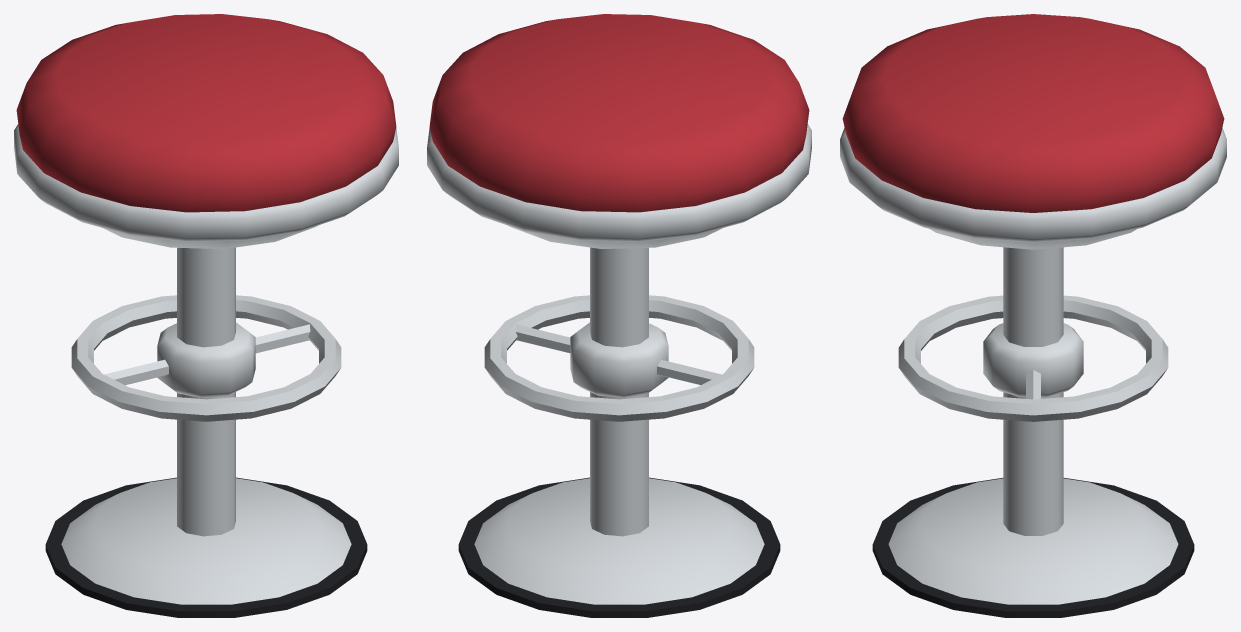
File: Shop_Stool.fbx
3 renders of one model, left to right at view 1: azimuth 30°, elevation 25°; view 2: azimuth 150°, elevation 25°; view 3: azimuth 270°, elevation 25°, orthographic.
Parts seen in each view (by area): view 1: Frame, Cushion, Glide; view 2: Frame, Cushion, Glide; view 3: Frame, Cushion, Glide.
Part boxes in pixels (x1,y1,x2,y2): Frame: (14,124,398,604); Cushion: (16,14,396,212); Glide: (45,477,367,617); Frame: (427,124,811,604); Cushion: (429,14,809,212); Glide: (458,477,780,617); Frame: (840,127,1226,604); Cushion: (842,14,1224,212); Glide: (872,478,1194,617).
Bounding box in the file's own units: 154 × 210 × 154.
